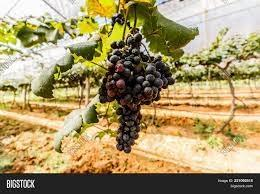Grape Overripe: (99, 27, 174, 152), (99, 28, 174, 152)
